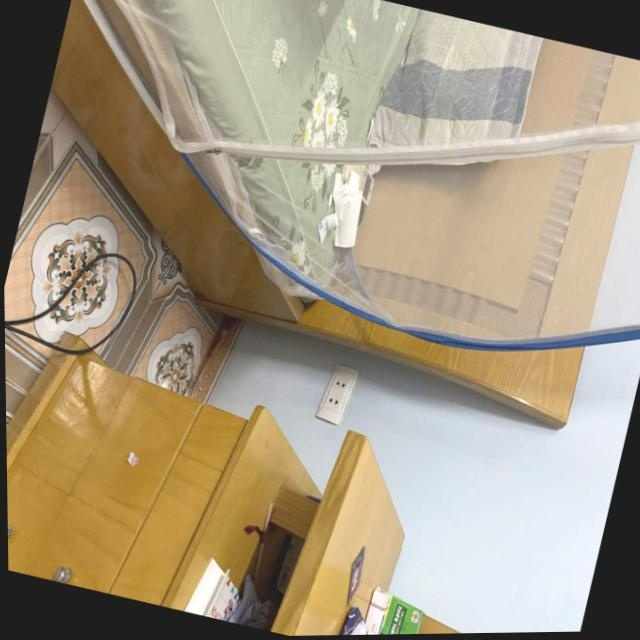outlet: (311, 361, 360, 427)
